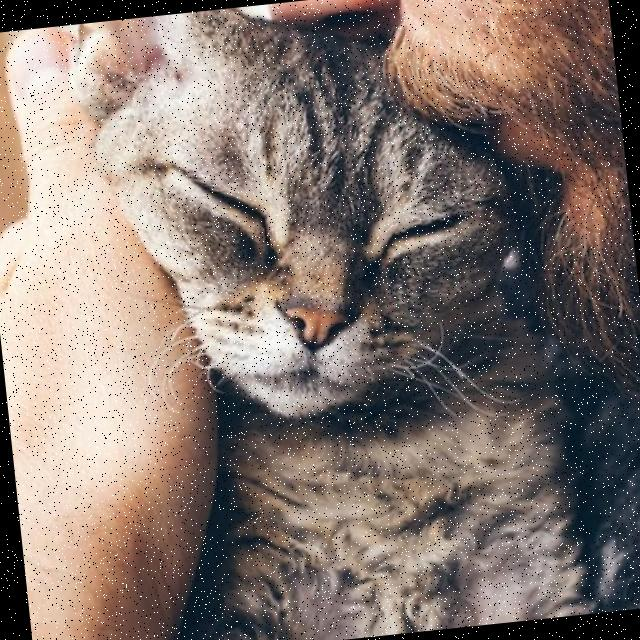Happy: (110, 44, 526, 463)
